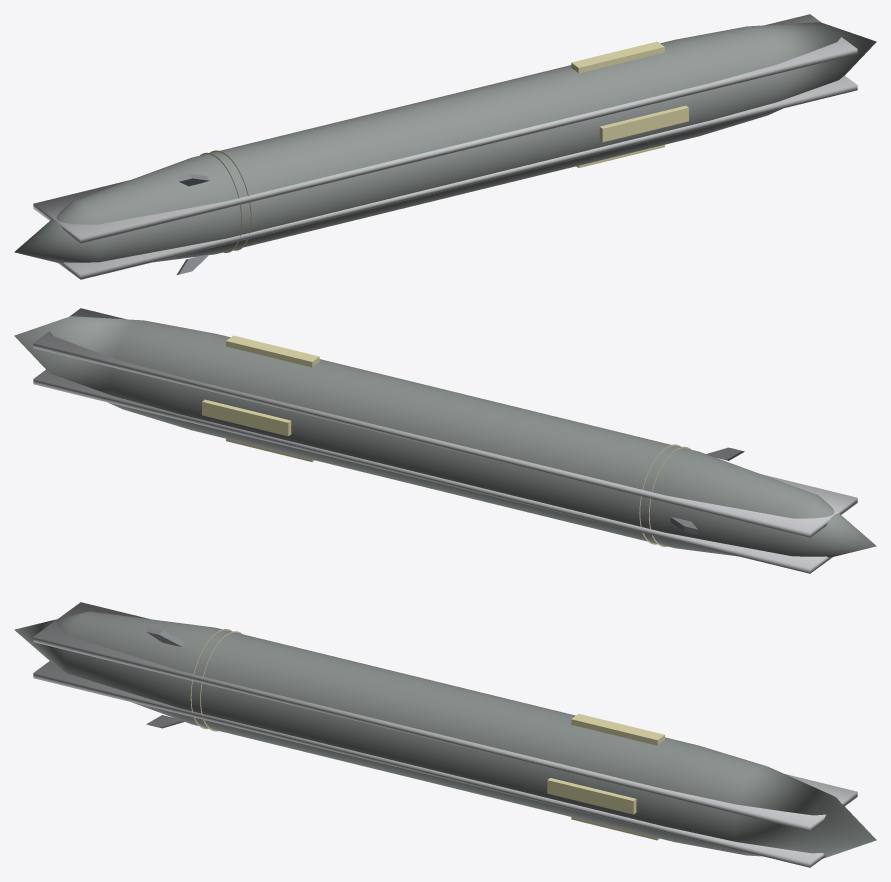
File: US_MINE_Mk67_SLMM_LOD0.fbx
3 renders of one model, top to bottom at view 1: azimuth 30°, elevation 25°; view 2: azimuth 150°, elevation 25°; view 3: azimuth 330°, elevation 25°, orthographic.
Parts seen in each view (by area): view 1: WPN_US_MINE_Mk67_SLMM_LOD0_Body, WPN_US_MINE_Mk67_SLMM_LOD0_Detail, WPN_US_MINE_Mk67_SLMM_LOD0_Marking, WPN_US_MINE_Mk67_SLMM_LOD0_Fins; view 2: WPN_US_MINE_Mk67_SLMM_LOD0_Body, WPN_US_MINE_Mk67_SLMM_LOD0_Detail, WPN_US_MINE_Mk67_SLMM_LOD0_Marking, WPN_US_MINE_Mk67_SLMM_LOD0_Fins; view 3: WPN_US_MINE_Mk67_SLMM_LOD0_Body, WPN_US_MINE_Mk67_SLMM_LOD0_Detail, WPN_US_MINE_Mk67_SLMM_LOD0_Marking, WPN_US_MINE_Mk67_SLMM_LOD0_Fins.
Part boxes in pixels (x1,y1,x2,y2): WPN_US_MINE_Mk67_SLMM_LOD0_Body: (14,22,876,263); WPN_US_MINE_Mk67_SLMM_LOD0_Detail: (33,14,857,279); WPN_US_MINE_Mk67_SLMM_LOD0_Marking: (200,41,688,252); WPN_US_MINE_Mk67_SLMM_LOD0_Fins: (176,174,209,274); WPN_US_MINE_Mk67_SLMM_LOD0_Body: (14,316,876,557); WPN_US_MINE_Mk67_SLMM_LOD0_Detail: (33,308,857,573); WPN_US_MINE_Mk67_SLMM_LOD0_Marking: (202,335,690,546); WPN_US_MINE_Mk67_SLMM_LOD0_Fins: (670,447,744,534); WPN_US_MINE_Mk67_SLMM_LOD0_Body: (14,611,876,858); WPN_US_MINE_Mk67_SLMM_LOD0_Detail: (33,602,857,867); WPN_US_MINE_Mk67_SLMM_LOD0_Marking: (190,629,664,840); WPN_US_MINE_Mk67_SLMM_LOD0_Fins: (146,627,184,728).
Bounding box in the file's own units: 4.83 × 0.5626 × 0.5361.
